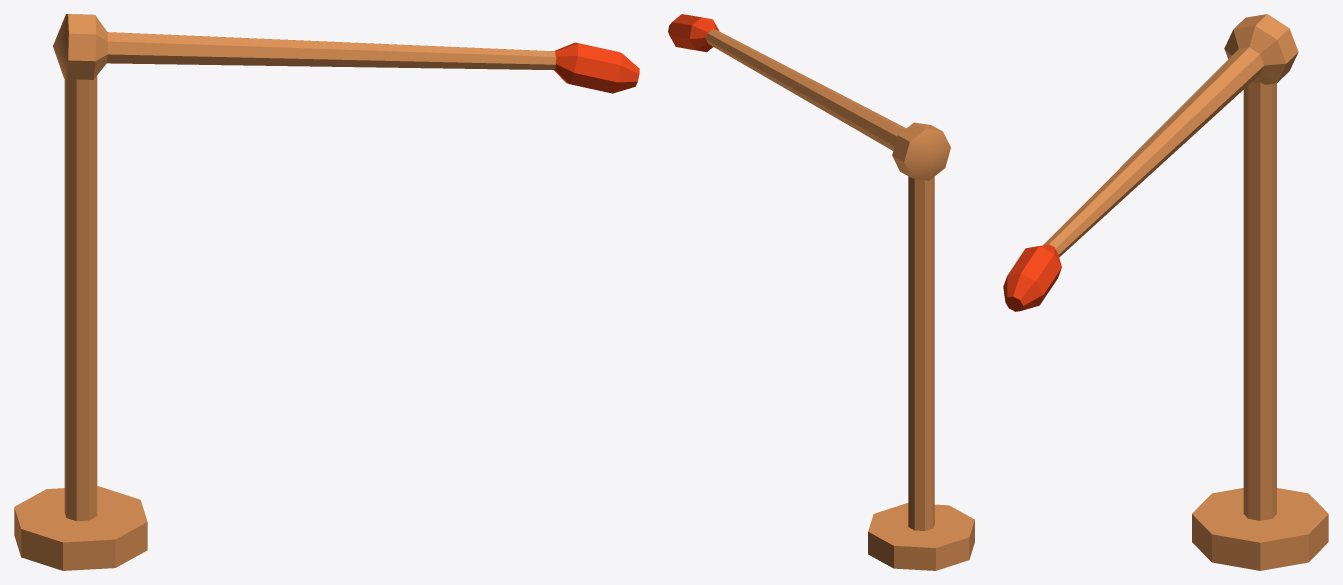
File: MicArm.fbx
The picture shows the model from 3 angles, left to right: view 1: azimuth 30°, elevation 25°; view 2: azimuth 150°, elevation 25°; view 3: azimuth 270°, elevation 25°; orthographic projection. The views are drawn at different scales.
Parts seen in each view (by area): view 1: MicArm; view 2: MicArm; view 3: MicArm.
Boxes of the visible parts, x1,y1,x2,y2 form: MicArm: (14,14,639,570); MicArm: (668,14,974,570); MicArm: (1003,14,1328,570).
Bounding box in the file's own units: 2.03 × 2.07 × 1.17.
